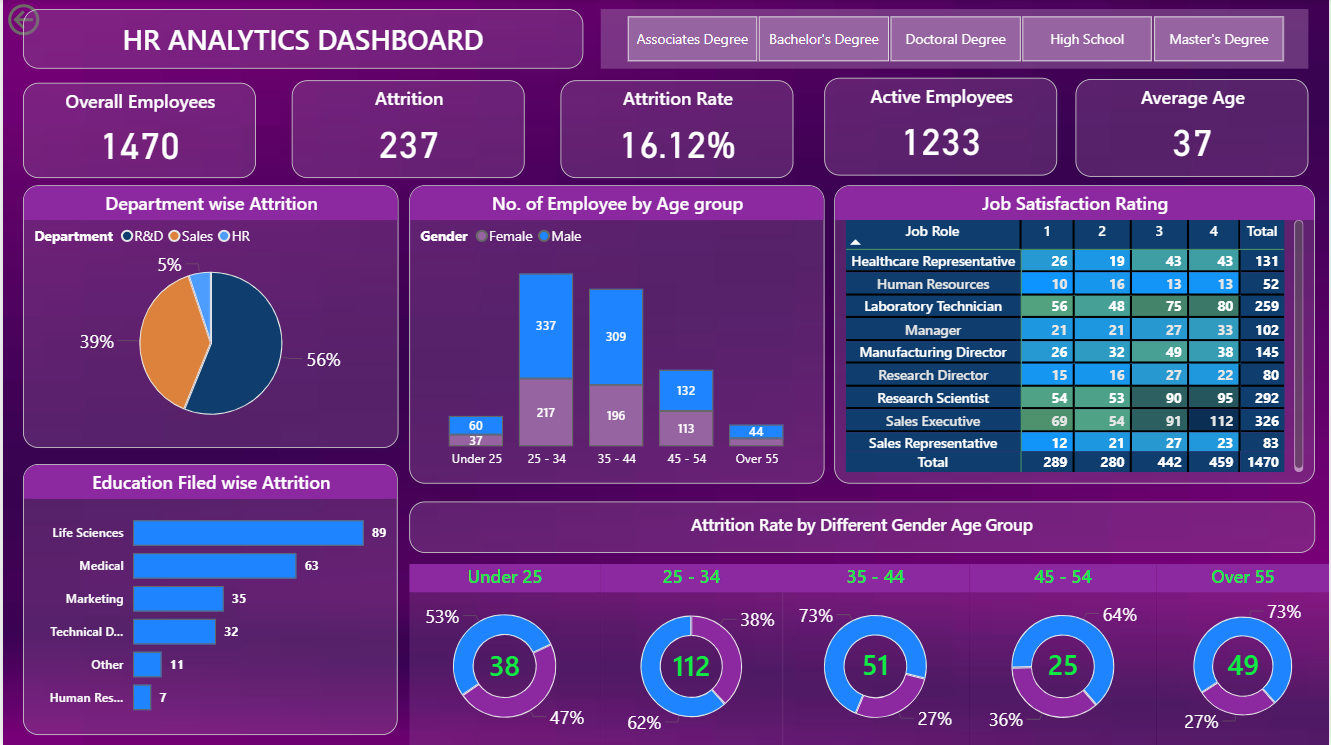

This screenshot's page, from the dashboard's own definition file:
{"tool":"powerbi","page":{"name":"Page 1","canvas":[1280,720],"ordinal":0},"visuals":[{"type":"card","title":"Overall  Employees","fields":{"Values":["Sum(HR data.Employee Count)"]},"box":[19.2,81,225,91.9],"z":0},{"type":"card","title":"Attrition","fields":{"Values":["Sum(HR data.Attrition Count)"]},"box":[278.6,78.2,225,94.7],"z":1000},{"type":"card","title":"Attrition Rate","fields":{"Values":["HR data.Attrititon Rate"]},"box":[537.9,78.2,225,94.7],"z":2000},{"type":"card","title":"Active Employees","fields":{"Values":["HR data.Active employees"]},"box":[793.1,75.5,225,94.7],"z":3000},{"type":"card","title":"Average Age","fields":{"Values":["Avg(HR data.Age)"]},"box":[1034.7,76.8,225,94.7],"z":4000},{"type":"pieChart","title":"Department wise Attrition","fields":{"Category":["HR data.Department"],"Y":["Sum(HR data.Attrition Count)"]},"box":[19.2,179.8,362.3,253.9],"z":5000},{"type":"columnChart","title":"No. of Employee by Age group","fields":{"Category":["HR data.CF_age band"],"Y":["Sum(HR data.Employee Count)"],"Series":["HR data.Gender"]},"box":[392.5,179.8,400.7,288.2],"z":6000},{"type":"pivotTable","title":"Job Satisfaction Rating","fields":{"Columns":["HR data.Job Satisfaction"],"Rows":["HR data.Job Role"],"Values":["Sum(HR data.Employee Count)"]},"box":[802.7,179.8,463.8,288.2],"z":7000},{"type":"actionButton","box":[0,0,100,40],"z":8000},{"type":"barChart","title":"Education Filed wise Attrition","fields":{"Category":["HR data.Education Field"],"Y":["Sum(HR data.Attrition Count)"]},"box":[19.3,448.8,361.9,261.8],"z":9000},{"type":"donutChart","title":"Under 25","fields":{"Category":["HR data.Gender"],"Series":["HR data.CF_age band"],"Y":["Sum(HR data.Attrition Count)"]},"box":[392.1,545.3,184.6,174.9],"z":10000},{"type":"textbox","box":[392.5,484.4,874.1,49.4],"z":11000},{"type":"donutChart","title":"45 - 54","fields":{"Category":["HR data.Gender"],"Series":["HR data.CF_age band"],"Y":["Sum(HR data.Attrition Count)"]},"box":[933.1,544.8,181.1,175.6],"z":12000},{"type":"donutChart","title":"Over 55","fields":{"Category":["HR data.Gender"],"Series":["HR data.CF_age band"],"Y":["Sum(HR data.Attrition Count)"]},"box":[1113.5,545.3,166.5,174.9],"z":13000},{"type":"donutChart","title":"25 - 34","fields":{"Category":["HR data.Gender"],"Series":["HR data.CF_age band"],"Y":["Sum(HR data.Attrition Count)"]},"box":[576.3,544.8,175.6,175.6],"z":14000},{"type":"donutChart","title":"35 - 44","fields":{"Category":["HR data.Gender"],"Series":["HR data.CF_age band"],"Y":["Sum(HR data.Attrition Count)"]},"box":[752,544.8,181.1,175.6],"z":15000},{"type":"card","fields":{"Values":["Sum(HR data.Attrition Count)"]},"box":[456.9,610.6,53.5,67.2],"z":16000},{"type":"card","fields":{"Values":["Sum(HR data.Attrition Count)"]},"box":[638.2,610.5,53.1,67.6],"z":17000},{"type":"card","fields":{"Values":["Sum(HR data.Attrition Count)"]},"box":[815.6,609.3,53.1,67.6],"z":18000},{"type":"card","fields":{"Values":["Sum(HR data.Attrition Count)"]},"box":[996.2,609.3,53.5,67.2],"z":19000},{"type":"card","fields":{"Values":["Sum(HR data.Attrition Count)"]},"box":[1170.5,609.3,53.5,67.2],"z":20000},{"type":"textbox","box":[19.2,9.6,540.7,57.6],"z":21000},{"type":"slicer","fields":{"Values":["HR data.Education"]},"box":[576.3,9.6,683.4,57.6],"z":22000}]}

Visuals, with their boxes in screenshot pixels (x1, y1, x2, y2), scaled from the page's 1280x720 canvas onto the 1331x745 screenshot:
"Overall  Employees" card: box(20, 84, 254, 179)
"Attrition" card: box(290, 81, 524, 179)
"Attrition Rate" card: box(559, 81, 793, 179)
"Active Employees" card: box(825, 78, 1059, 176)
"Average Age" card: box(1076, 79, 1310, 177)
"Department wise Attrition" pieChart: box(20, 186, 397, 449)
"No. of Employee by Age group" columnChart: box(408, 186, 825, 484)
"Job Satisfaction Rating" pivotTable: box(835, 186, 1317, 484)
actionButton: box(0, 0, 104, 41)
"Education Filed wise Attrition" barChart: box(20, 464, 396, 735)
"Under 25" donutChart: box(408, 564, 600, 744)
textbox: box(408, 501, 1317, 552)
"45 - 54" donutChart: box(970, 564, 1159, 744)
"Over 55" donutChart: box(1158, 564, 1330, 744)
"25 - 34" donutChart: box(599, 564, 782, 744)
"35 - 44" donutChart: box(782, 564, 970, 744)
card - Sum(HR data.Attrition Count): box(475, 632, 531, 701)
card - Sum(HR data.Attrition Count): box(664, 632, 719, 702)
card - Sum(HR data.Attrition Count): box(848, 630, 903, 700)
card - Sum(HR data.Attrition Count): box(1036, 630, 1092, 700)
card - Sum(HR data.Attrition Count): box(1217, 630, 1273, 700)
textbox: box(20, 10, 582, 70)
slicer - HR data.Education: box(599, 10, 1310, 70)
